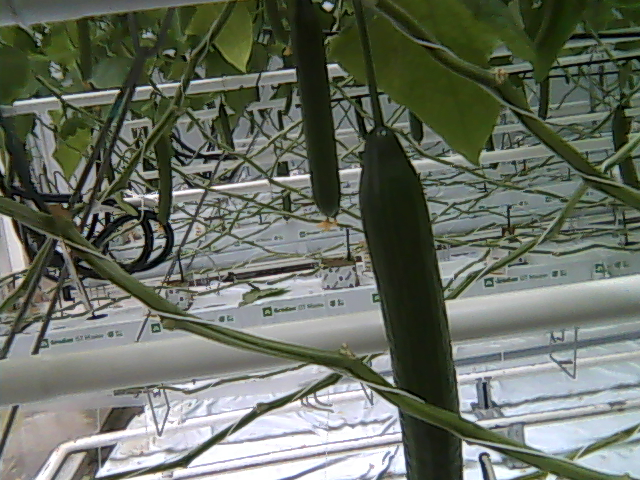concombre: (354, 120, 467, 480)
